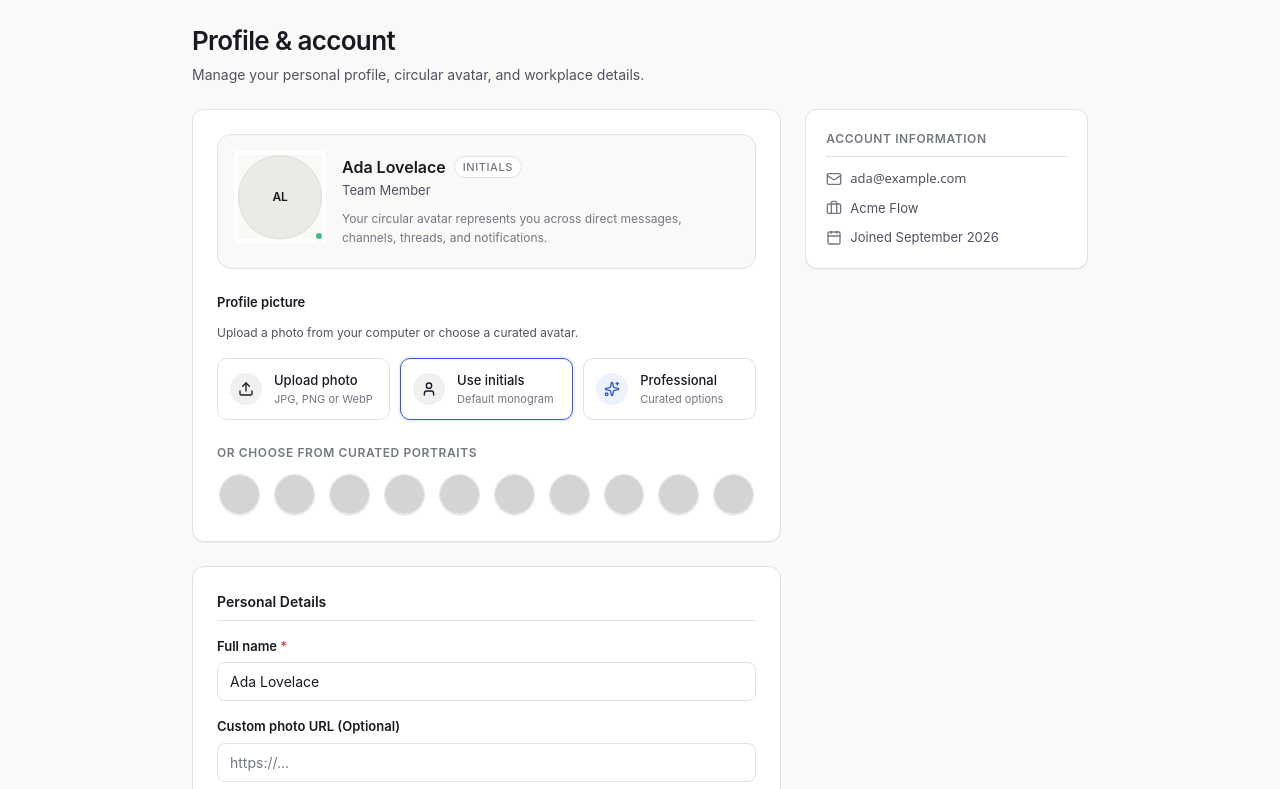
SettingsProfileView › saves name and image via PATCH /api/me and updates shell session
Replace the text in the field labelled "Full name *" with "Ada L." at (487, 682), box [218,663,755,700]
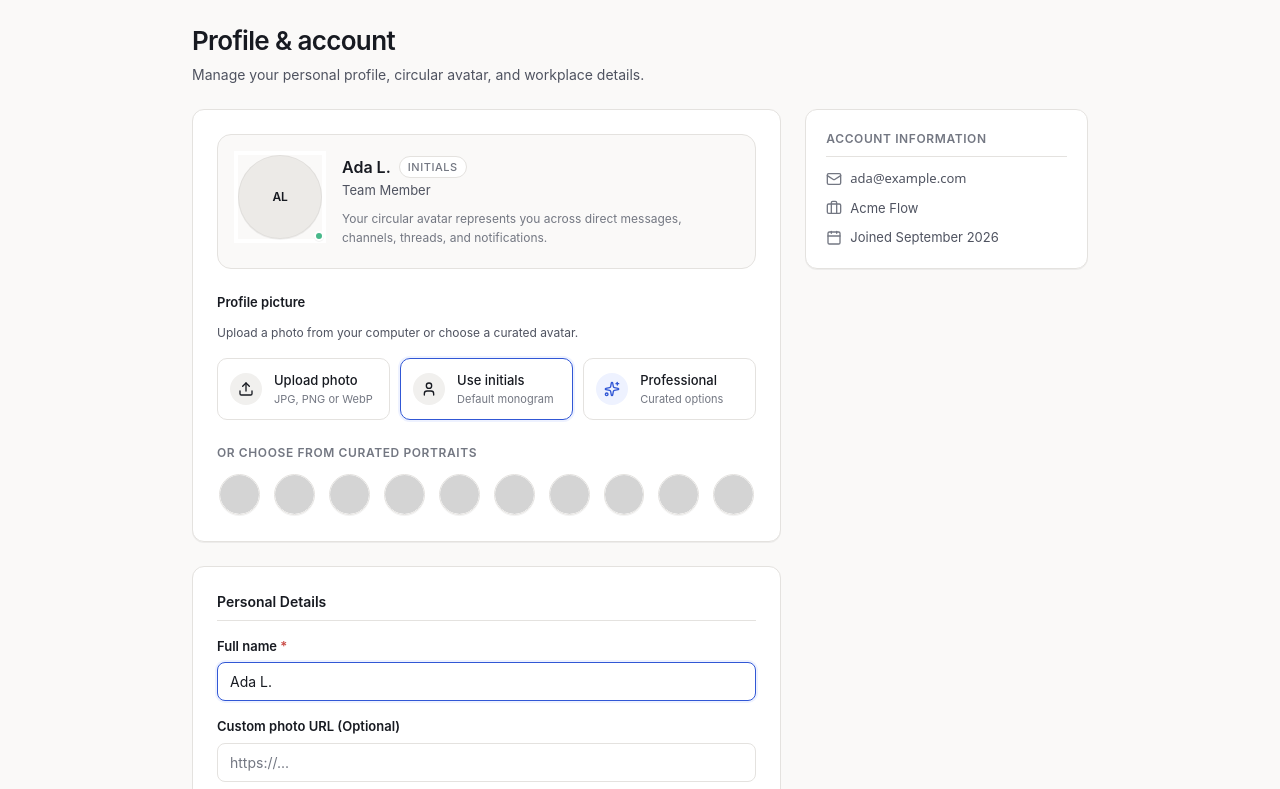
Type "https://example.com/ada.jpg" into the field labelled "Custom photo URL (Optional)".
click(487, 762); type("https://example.com/ada.jpg")  # box [218,744,755,781]
(page scrolled)
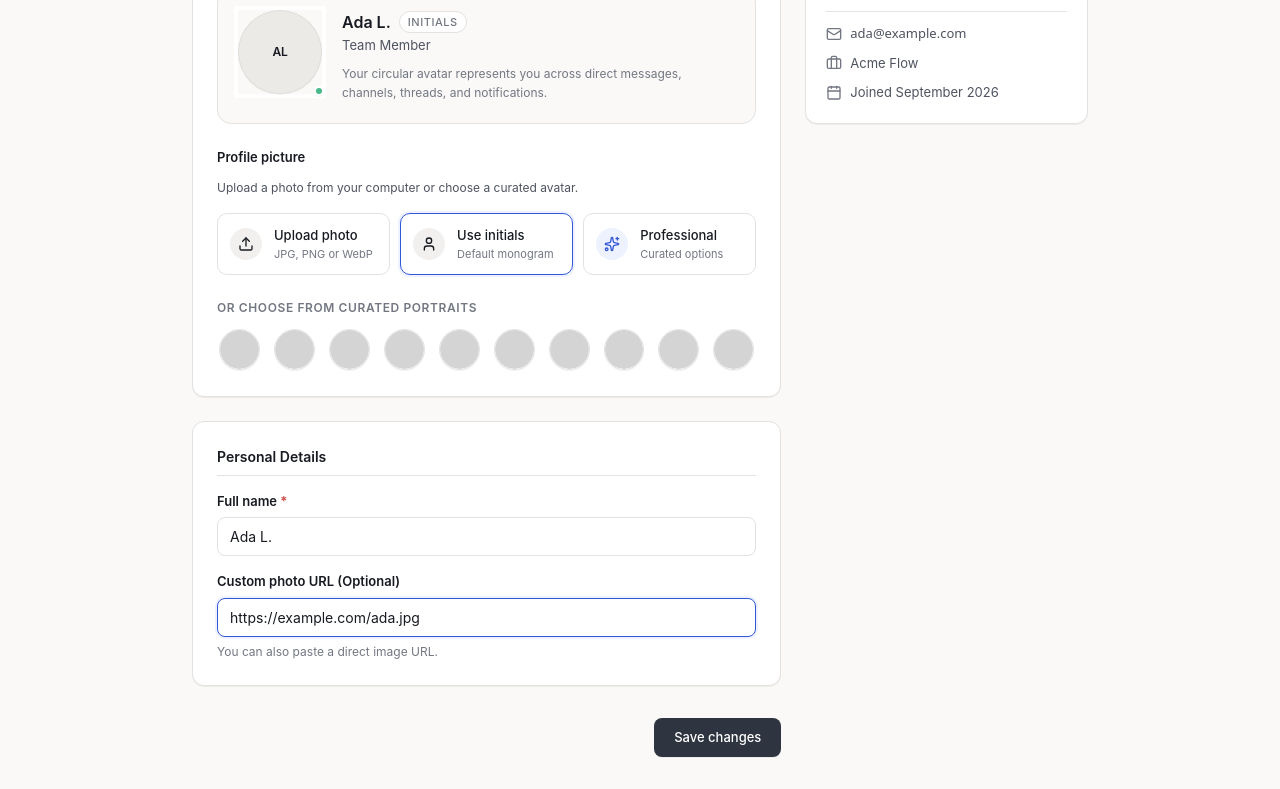
Click the button "Save changes".
click(718, 738)  # box [654,718,781,757]
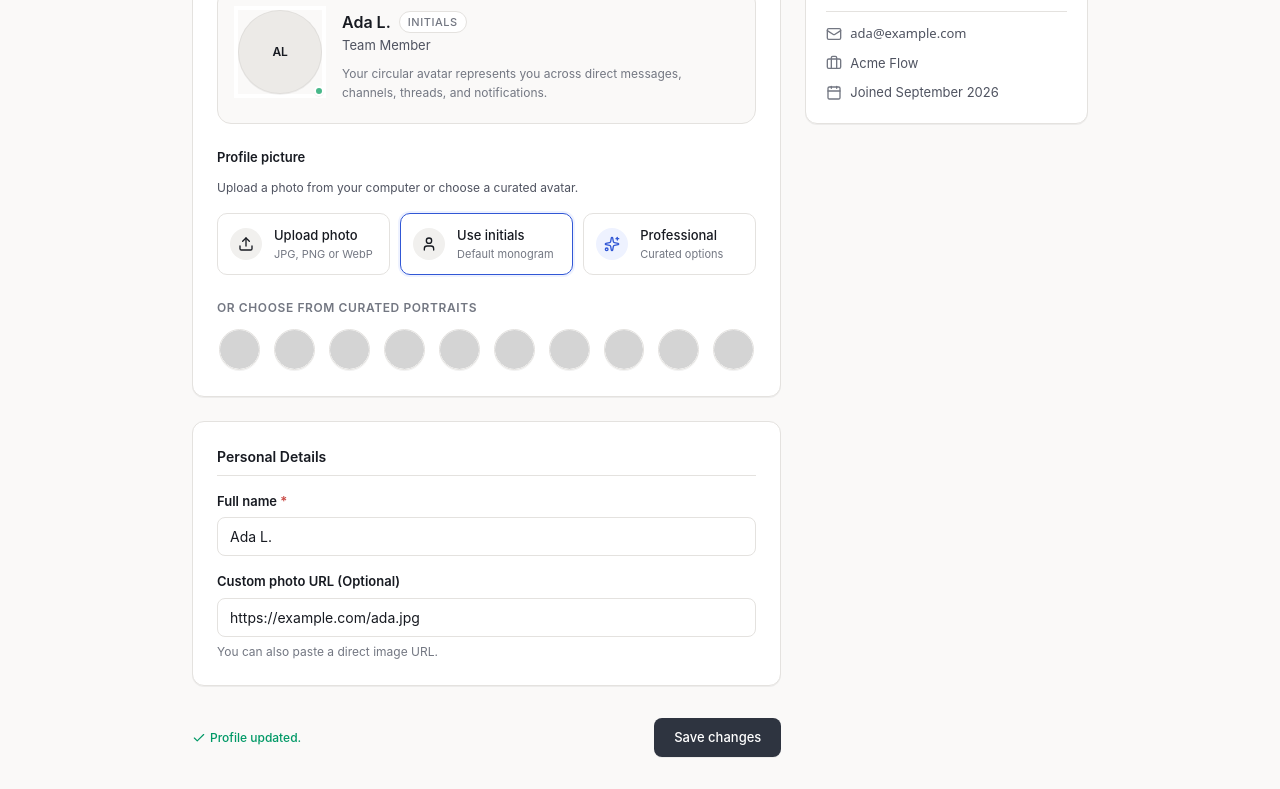
Result: the text "Profile updated." is shown at [210,729,301,747]
